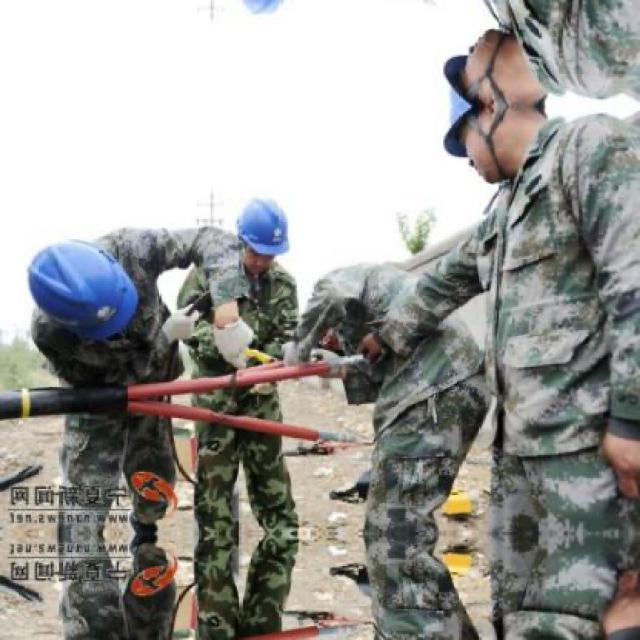con casco: (29, 212, 166, 330), (432, 107, 577, 180), (216, 188, 303, 264)
